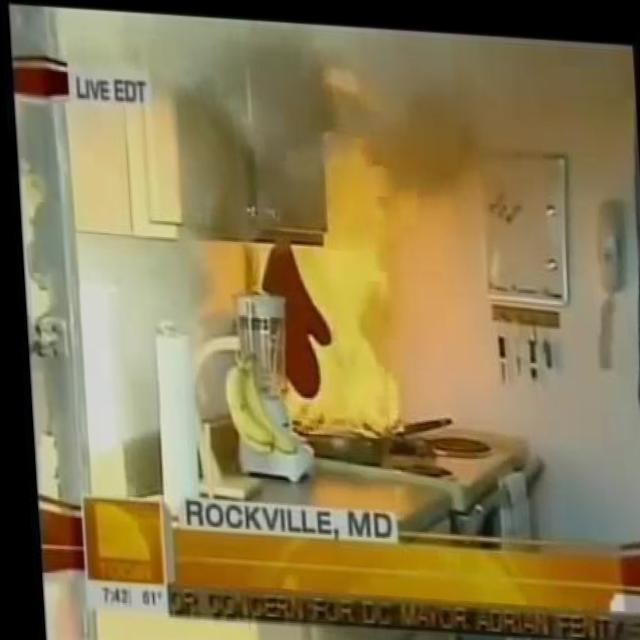fire: (242, 97, 405, 437)
